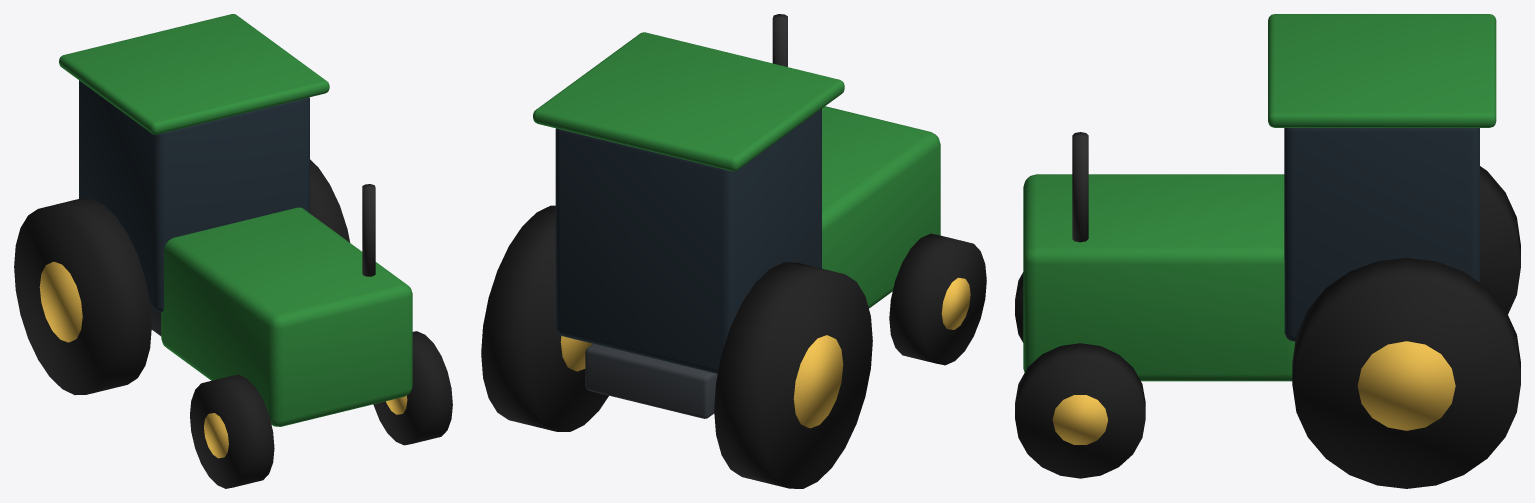
File: tractor.glb
The picture shows the model from 3 angles, left to right: view 1: azimuth 30°, elevation 25°; view 2: azimuth 150°, elevation 25°; view 3: azimuth 270°, elevation 25°; orthographic projection. The views are drawn at different scales.
Visible parts, largest first — view 1: Body; view 2: Body; view 3: Body.
Part boxes in pixels (x1,y1,x2,y2): Body: (14, 14, 452, 488); Body: (481, 14, 986, 488); Body: (1015, 14, 1520, 488).
Bounding box in the file's own units: 2.08 × 2.4 × 3.1.
